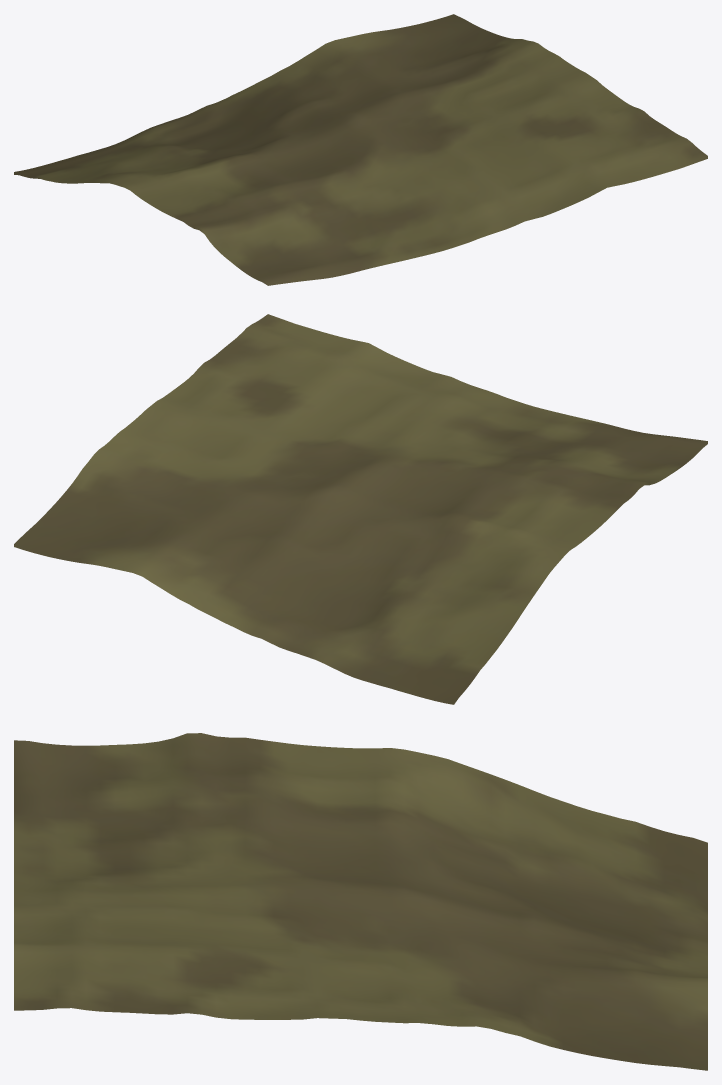
File: land_m_09_10.glb
The picture shows the model from 3 angles, top to bottom: view 1: azimuth 30°, elevation 25°; view 2: azimuth 150°, elevation 25°; view 3: azimuth 270°, elevation 25°; orthographic projection. The views are drawn at different scales.
Parts seen in each view (by area): view 1: land_m_09_10; view 2: land_m_09_10; view 3: land_m_09_10.
Boxes of the visible parts, x1,y1,x2,y2 form: land_m_09_10: [14, 14, 707, 285]; land_m_09_10: [14, 314, 707, 704]; land_m_09_10: [14, 733, 707, 1070].
Size of the model in its own units: 960 by 209 by 960.
